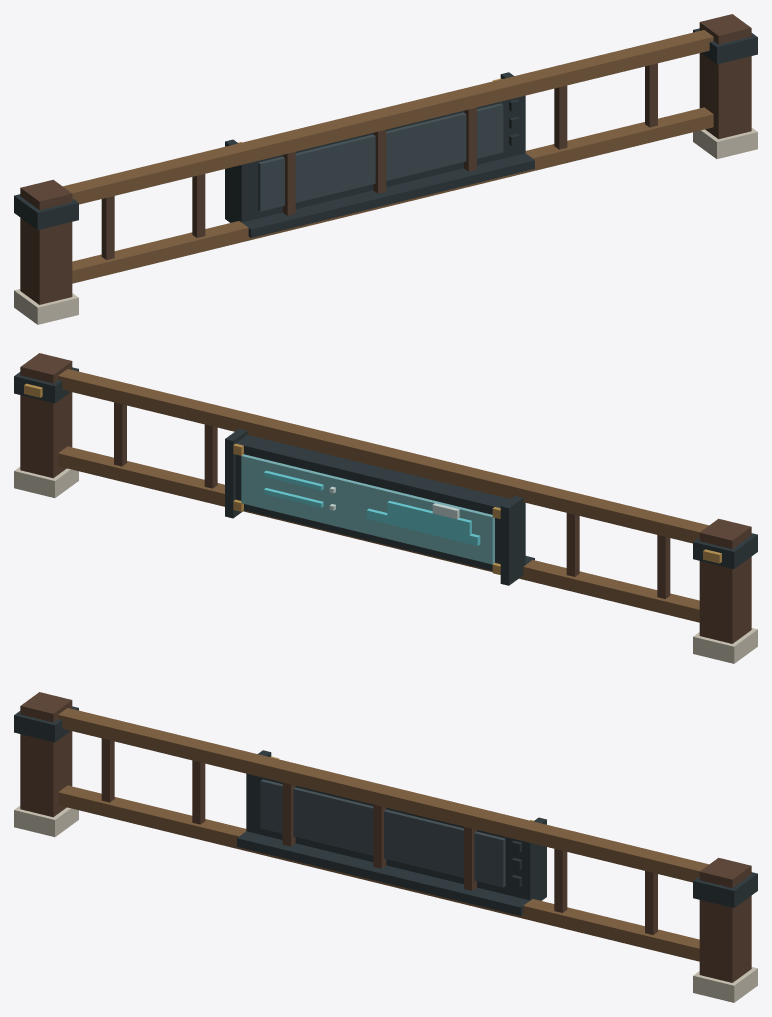
3 views of the same model, one above another, from view 1: azimuth 30°, elevation 25°; view 2: azimuth 150°, elevation 25°; view 3: azimuth 330°, elevation 25° (orthographic).
Visible parts, largest first — view 1: 旧渡口侧栏显示件; view 2: 旧渡口侧栏显示件; view 3: 旧渡口侧栏显示件.
Boxes of the visible parts, x1,y1,x2,y2 form: 旧渡口侧栏显示件: [14, 14, 757, 324]; 旧渡口侧栏显示件: [14, 353, 757, 663]; 旧渡口侧栏显示件: [14, 692, 757, 1002].
Size of the model in its own units: 7 by 1.12 by 0.56.
9 materials, 9 textured.
